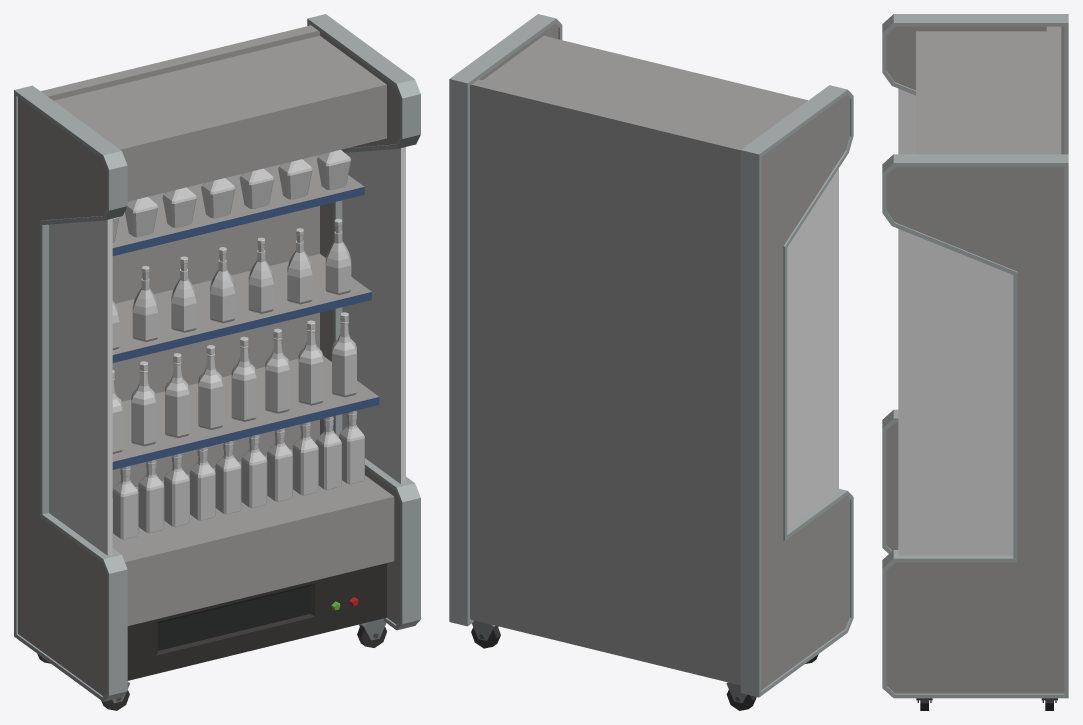
Rendered from SM_Props_Interior_SuperMarket_Display_Small_Preset_Bar.fbx.
The picture shows the model from 3 angles, left to right: view 1: azimuth 30°, elevation 25°; view 2: azimuth 150°, elevation 25°; view 3: azimuth 270°, elevation 25°; orthographic projection. The views are drawn at different scales.
Parts seen in each view (by area): view 1: SM_Props_Interior_SuperMarket_Display_Small_Preset_Bar, SM_Props_Interior_SuperMarket_Display_Small_Preset_Bar_Produ; view 2: SM_Props_Interior_SuperMarket_Display_Small_Preset_Bar; view 3: SM_Props_Interior_SuperMarket_Display_Small_Preset_Bar.
Boxes of the visible parts, x1,y1,x2,y2 form: SM_Props_Interior_SuperMarket_Display_Small_Preset_Bar: [14, 14, 420, 710]; SM_Props_Interior_SuperMarket_Display_Small_Preset_Bar_Produ: [112, 149, 364, 540]; SM_Props_Interior_SuperMarket_Display_Small_Preset_Bar: [449, 14, 853, 710]; SM_Props_Interior_SuperMarket_Display_Small_Preset_Bar: [882, 14, 1068, 710].
Bounding box in the file's own units: 121 × 213 × 64.
